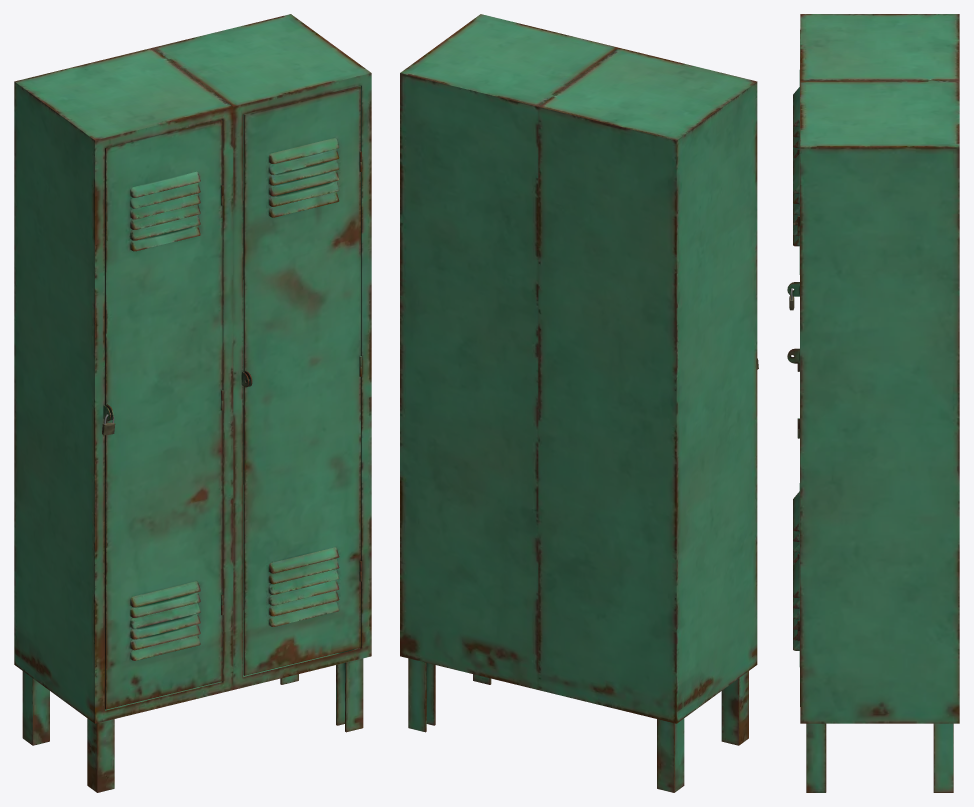
File: lockers-opt.glb
3 renders of one model, left to right at view 1: azimuth 30°, elevation 25°; view 2: azimuth 150°, elevation 25°; view 3: azimuth 270°, elevation 25°, orthographic.
Parts seen in each view (by area): view 1: Lockers_TT_checker_512x512_COLOR_GRID_0; view 2: Lockers_TT_checker_512x512_COLOR_GRID_0; view 3: Lockers_TT_checker_512x512_COLOR_GRID_0.
Boxes of the visible parts, <box> form: Lockers_TT_checker_512x512_COLOR_GRID_0: <box>14,14,371,792</box>; Lockers_TT_checker_512x512_COLOR_GRID_0: <box>400,14,758,792</box>; Lockers_TT_checker_512x512_COLOR_GRID_0: <box>787,14,959,792</box>.
Bounding box in the file's own units: 0.8374 × 1.9 × 0.4572.
Materials: 1 (1 with a texture image).
